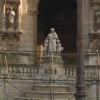Statue: (37, 23, 64, 72)
